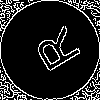R: (25, 25, 83, 79)
